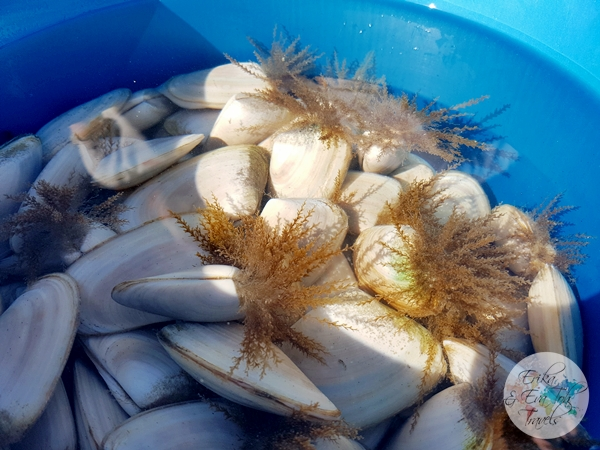tuatua: (284, 281, 453, 435), (154, 313, 349, 430), (108, 141, 271, 234), (3, 271, 85, 446), (106, 259, 259, 323), (79, 326, 181, 418), (267, 125, 356, 211), (85, 132, 208, 190), (164, 55, 275, 117), (527, 262, 588, 353)
